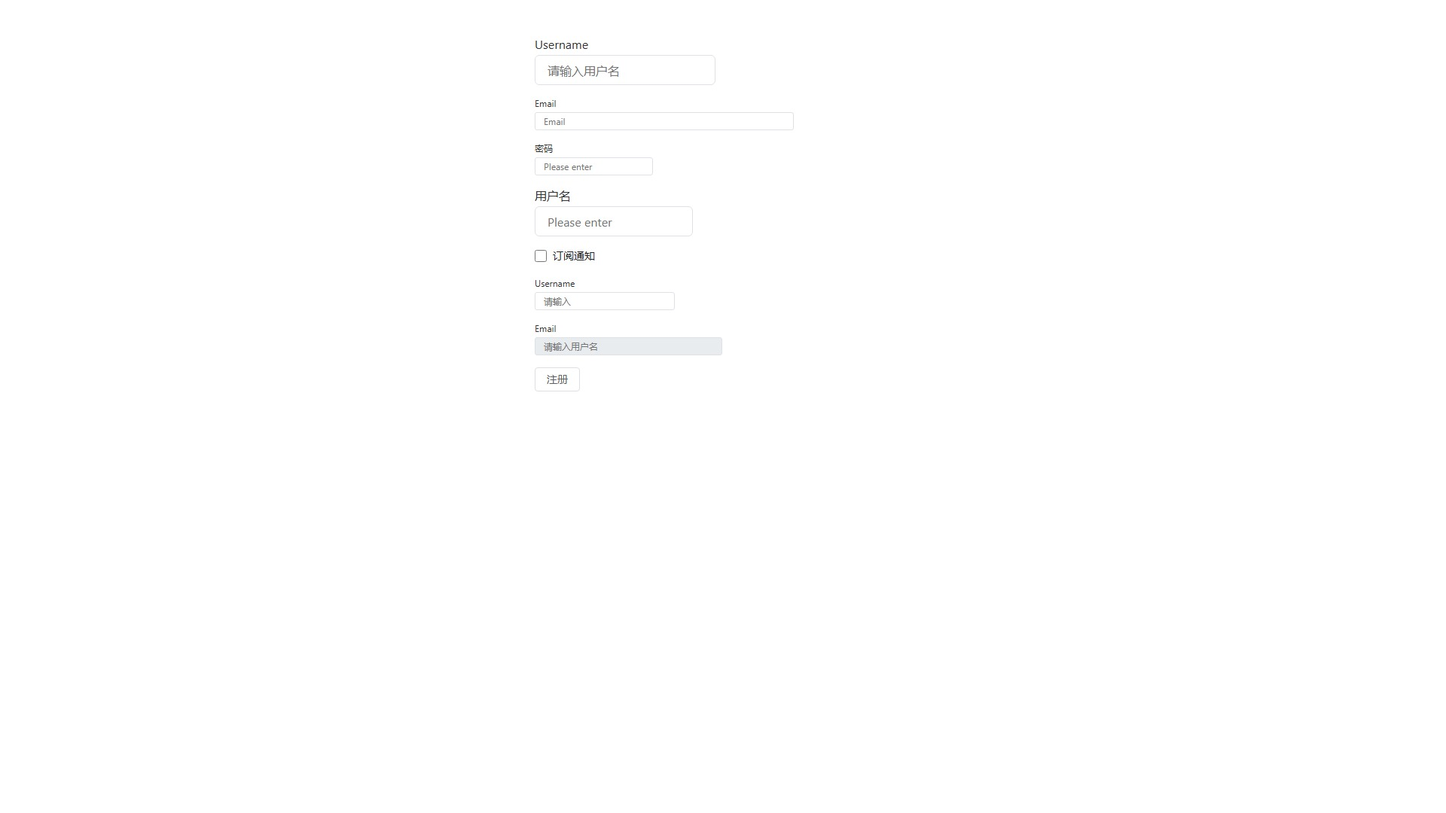button: (535, 367, 580, 391)
checkbox: (535, 250, 547, 262)
icon: (553, 248, 595, 263)
input: (535, 55, 715, 85), (535, 206, 693, 236), (535, 112, 794, 130), (535, 337, 722, 355), (535, 292, 675, 310), (535, 157, 653, 175)
radio: (535, 248, 595, 263)
